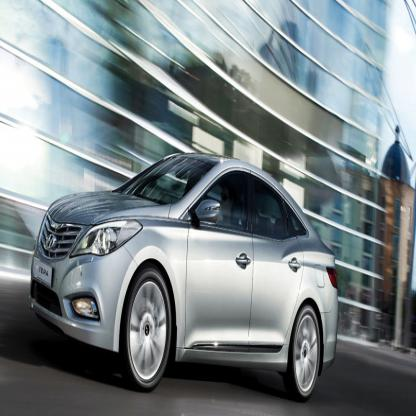Vehicle: (27, 145, 342, 400)
